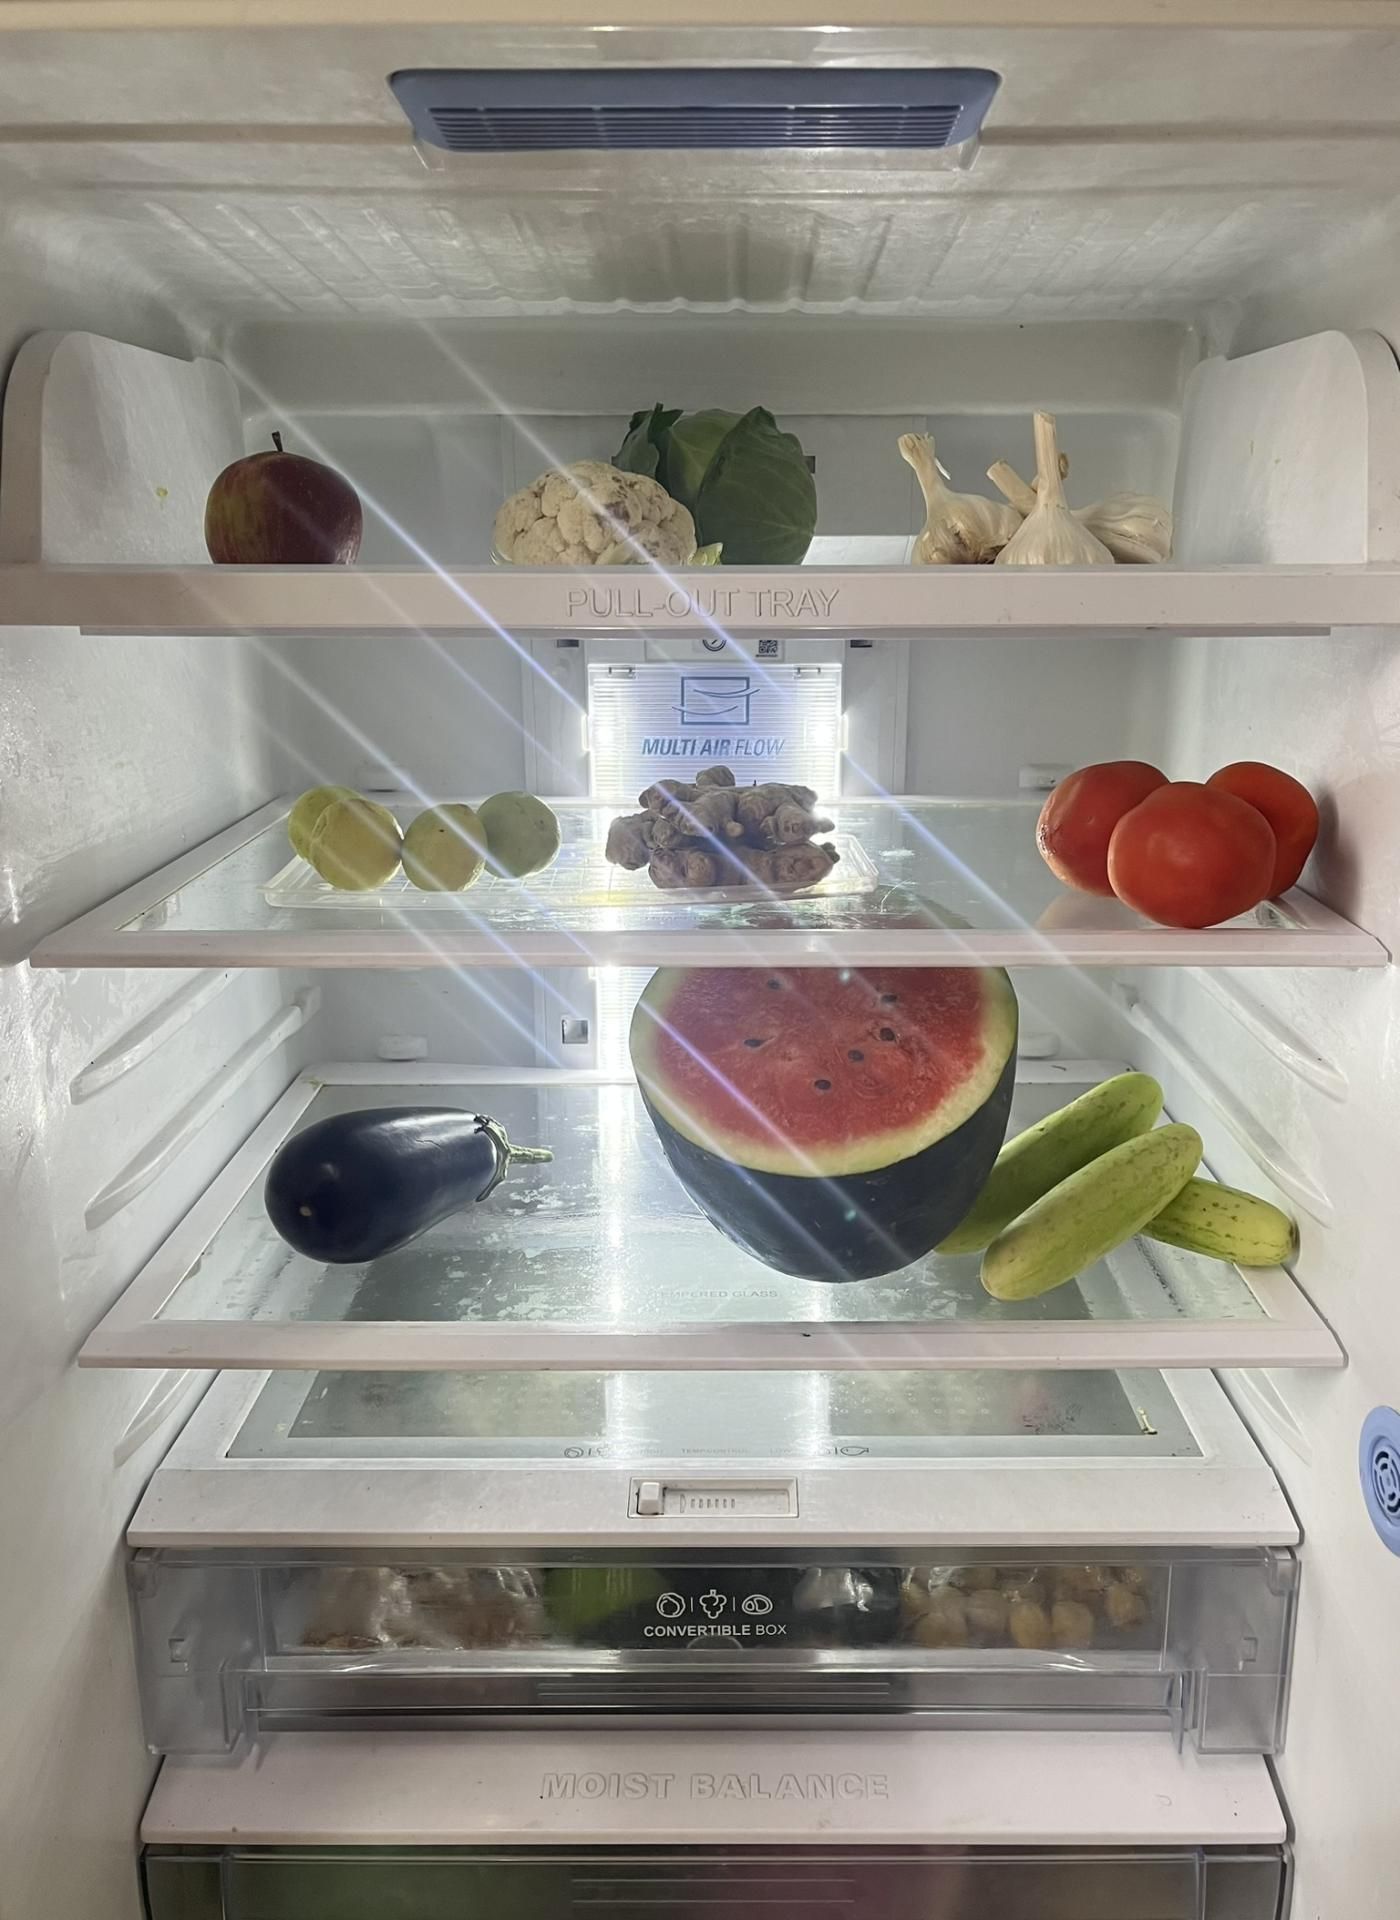apple: (203, 437, 370, 577)
brinjal: (256, 1102, 562, 1263)
cabbage: (620, 398, 824, 562)
cauliflower: (489, 461, 711, 574)
cucumber: (956, 1064, 1196, 1291), (1153, 1182, 1300, 1272)
garlic: (895, 410, 1176, 571)
ginger: (602, 766, 851, 903)
lemon: (283, 786, 567, 900)
tomato: (1039, 756, 1327, 930)
watermelon: (619, 932, 1023, 1297)
